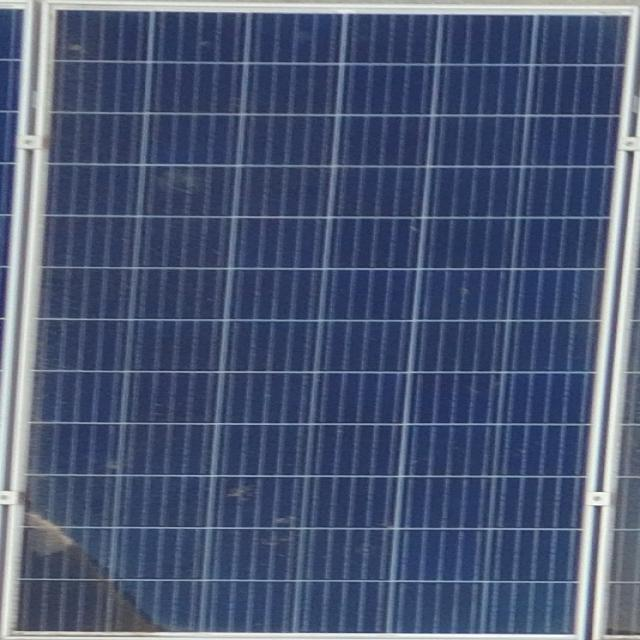Dust: (24, 476, 183, 640)
bird-droppings: (150, 171, 206, 195)
